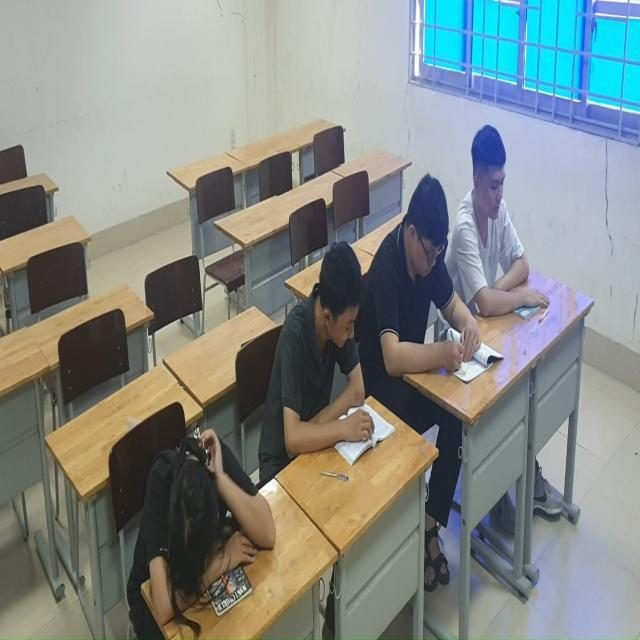sleep: (134, 432, 276, 622)
study: (367, 173, 480, 372), (277, 246, 373, 449), (455, 123, 546, 312)
